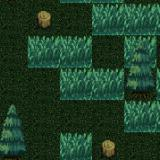Obstacle: (27, 2, 59, 36), (124, 68, 156, 100), (92, 132, 124, 160), (0, 134, 28, 160)
Slow: (92, 2, 160, 36), (28, 35, 92, 67), (60, 68, 124, 100), (124, 99, 160, 132), (124, 36, 157, 68), (60, 132, 91, 160)
